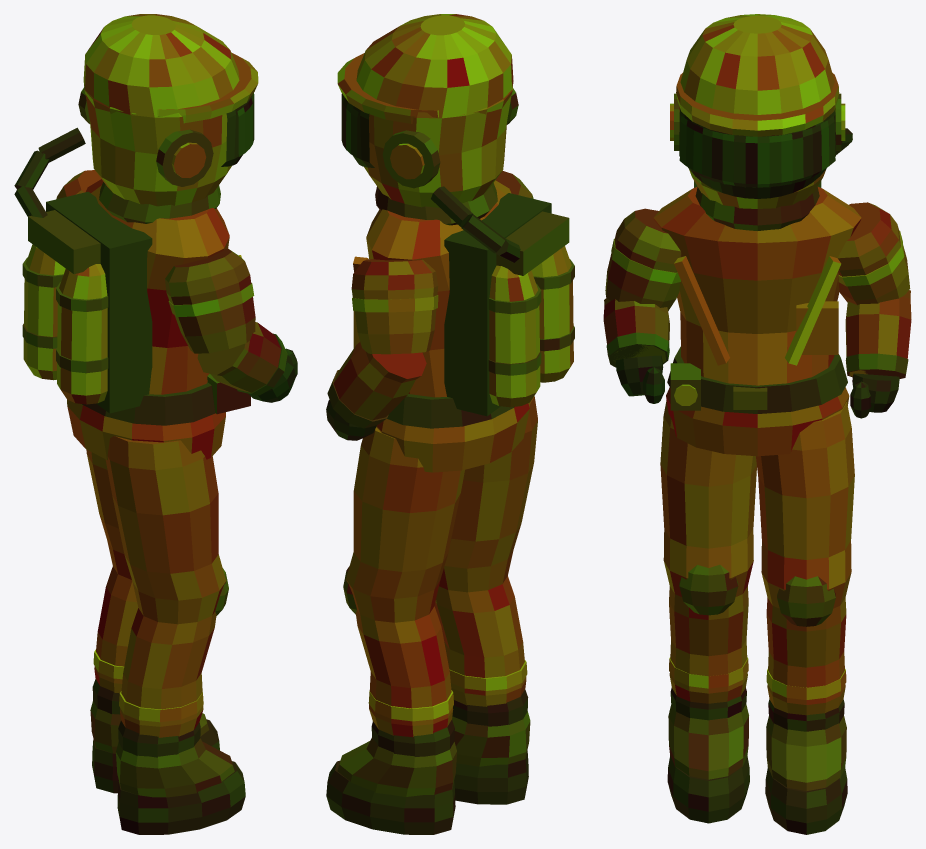
The model's file is watchcrew.glb.
3 views of the same model, side by side, from view 1: azimuth 30°, elevation 25°; view 2: azimuth 150°, elevation 25°; view 3: azimuth 270°, elevation 25° (orthographic).
Visible parts, largest first — view 1: watch_suit_geo; view 2: watch_suit_geo; view 3: watch_suit_geo.
Part boxes in pixels (x1,y1,x2,y2): watch_suit_geo: (14,14,297,834); watch_suit_geo: (326,14,574,834); watch_suit_geo: (603,14,911,834).
Size of the model in its own units: 0.557 by 2 by 0.7251.
